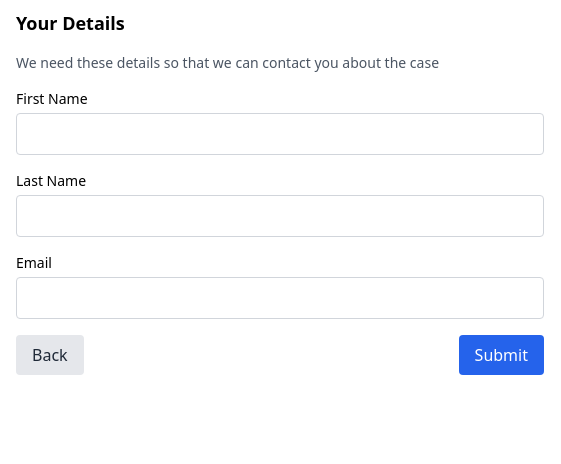
it: Your details page › validation › clears a field error as soon as the user edits that field
The width and height of the screenshot is (561, 464).
Click the button "Submit".
click(502, 355)  # box [459, 335, 544, 375]
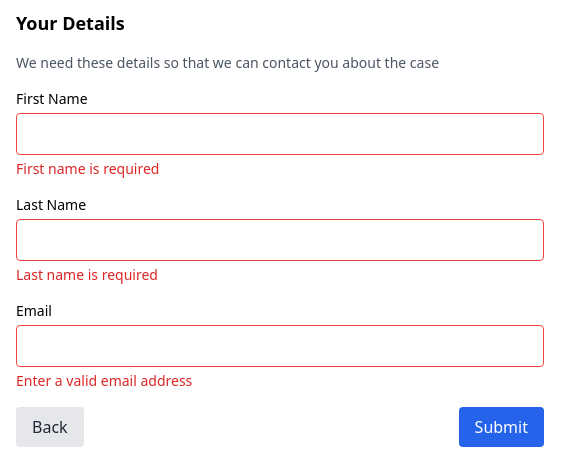
Result: the text "First name is required" is shown at [16, 159, 159, 178]
Type "J" into the field with test id "firstName".
click(280, 134); type("J")  # box [16, 113, 544, 155]
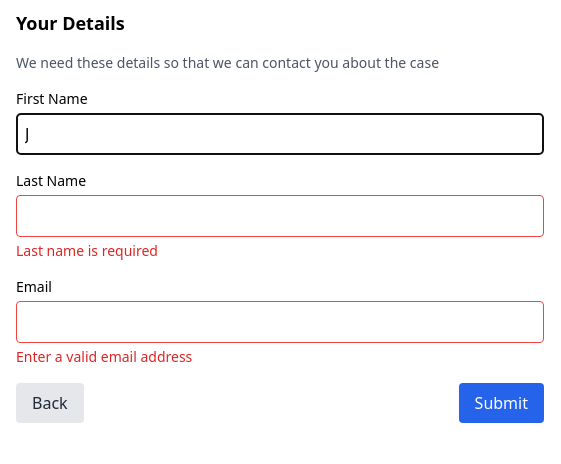
Result: the text "Last name is required" is shown at [16, 241, 158, 260]
Result: the text with test id "firstName-error" is gone
